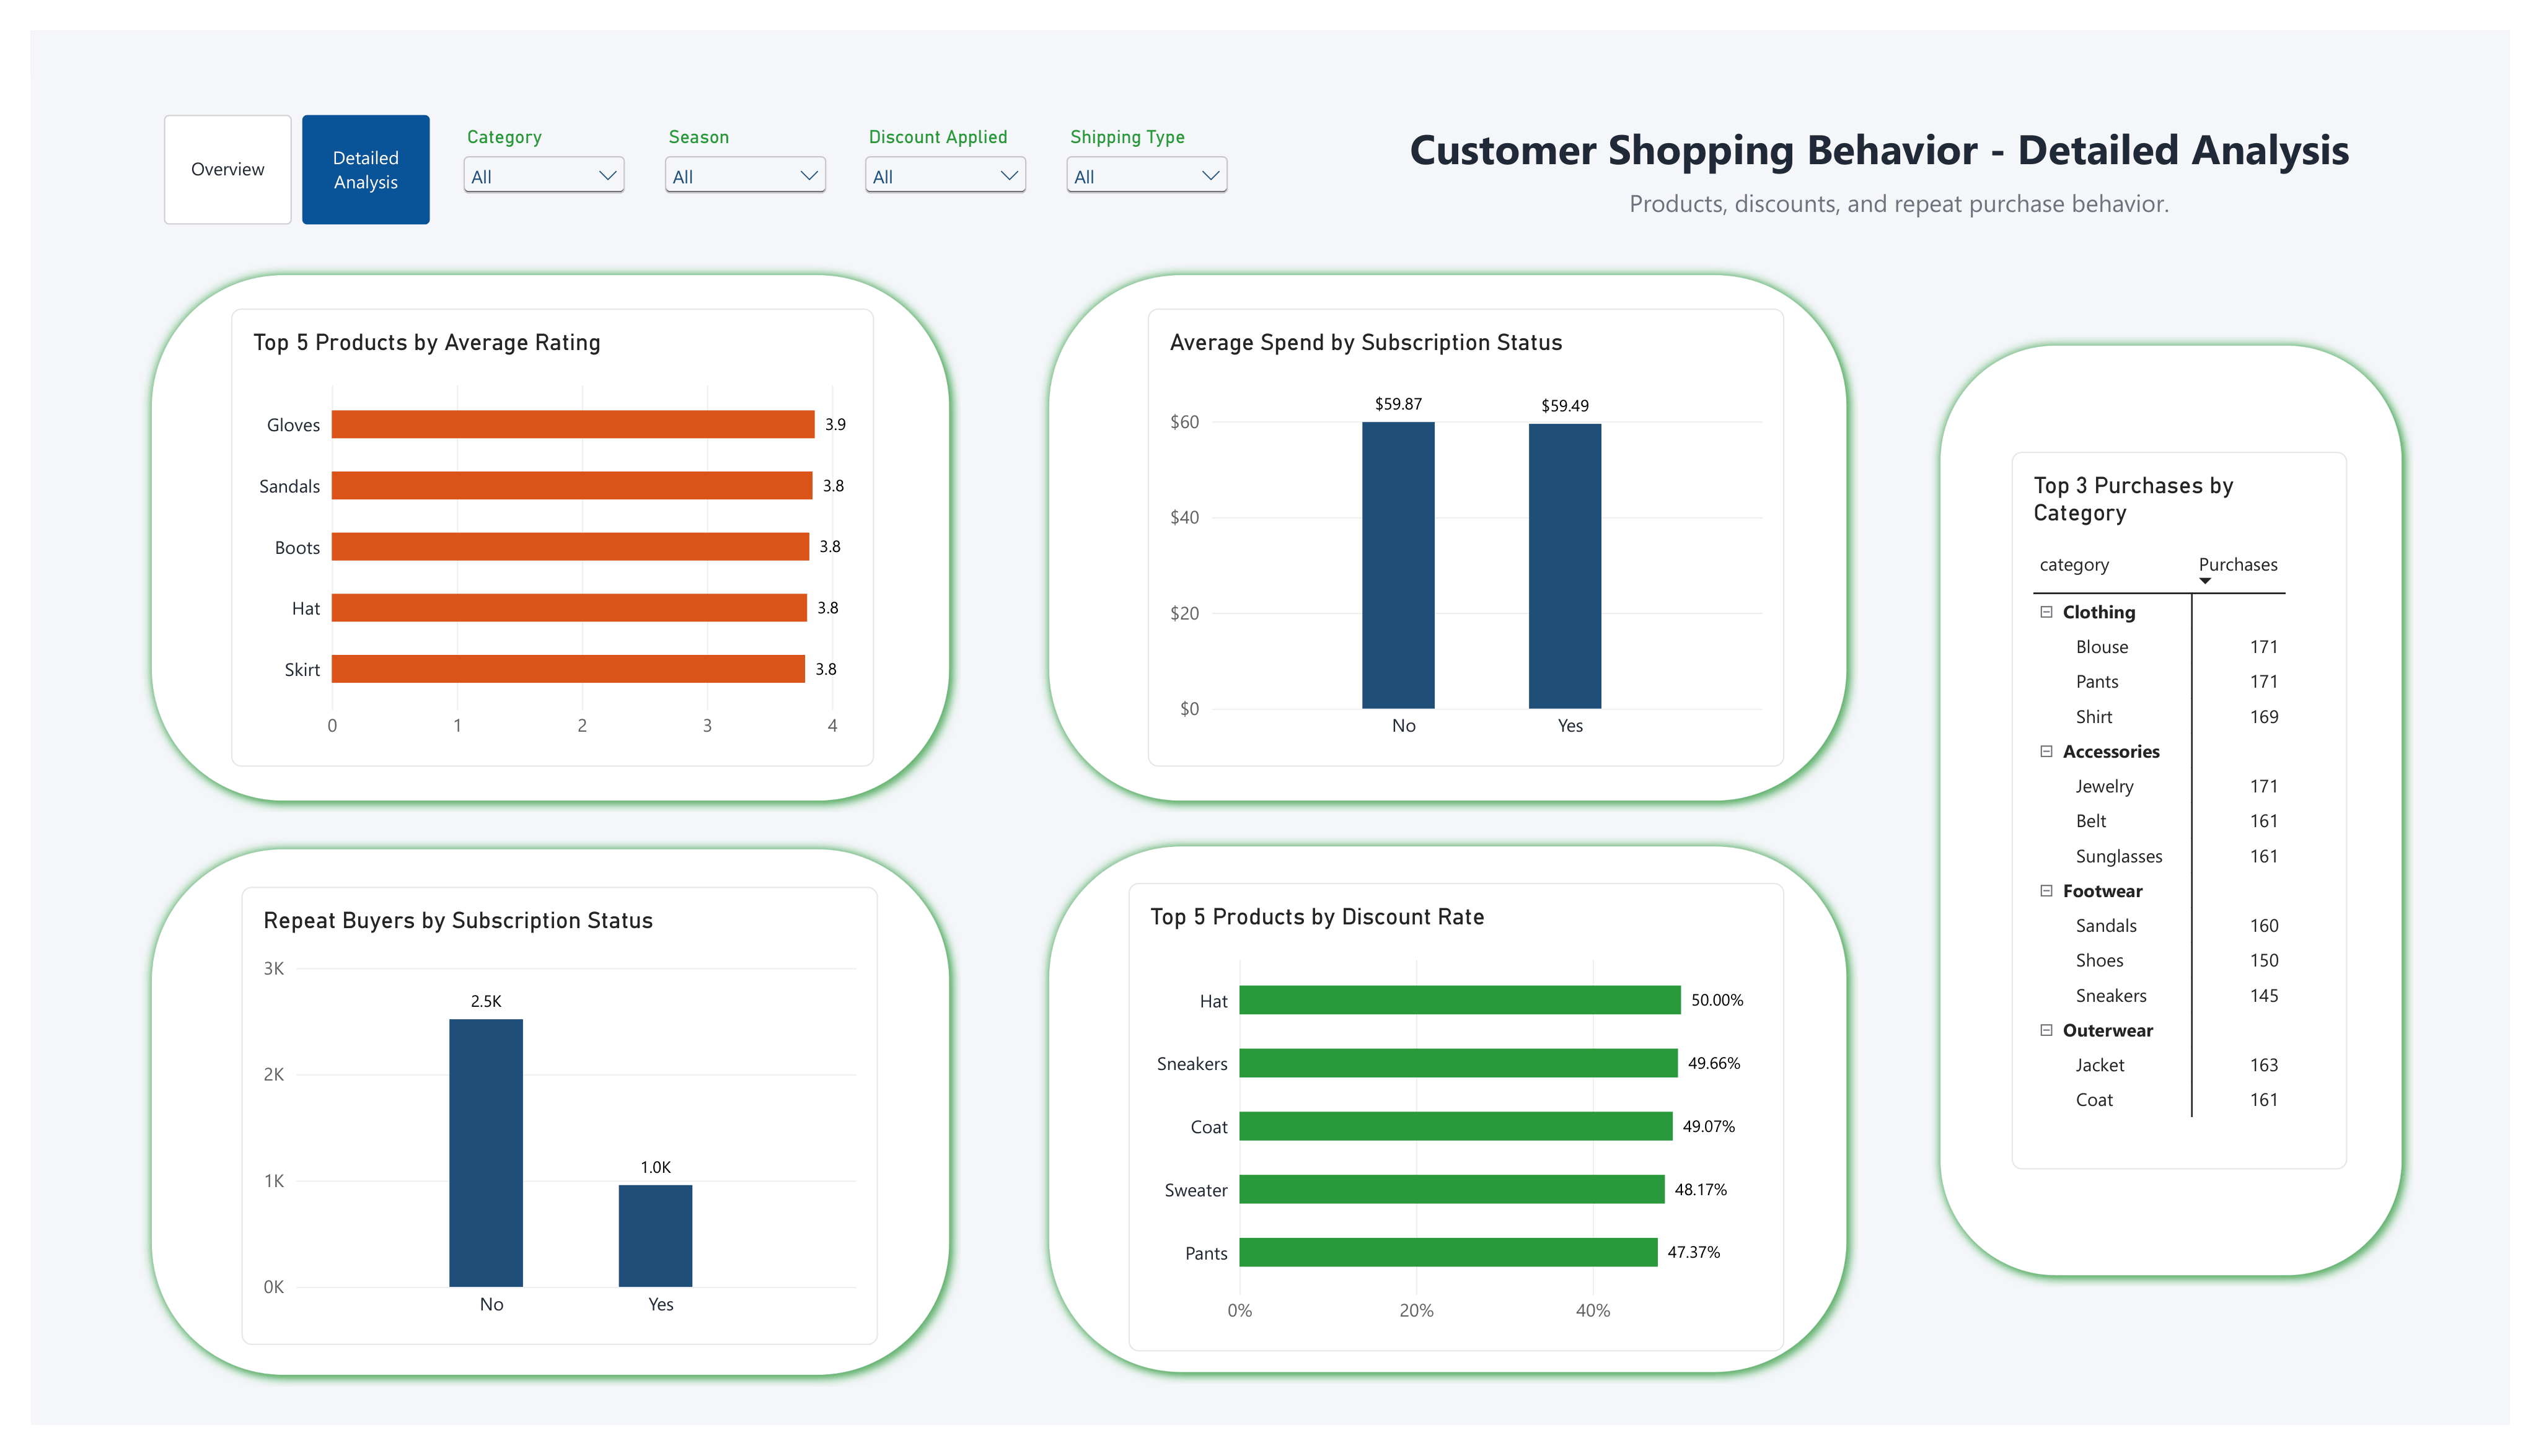

The dashboard page shown, as its layout file describes it:
{"tool":"powerbi","page":{"name":"Detailed Analysis","canvas":[1920,1080],"ordinal":1},"visuals":[{"type":"pageNavigator","box":[102.5,65,207.5,85],"z":0},{"type":"slicer","title":"Category","fields":{"Values":["customer_shopping_behavior_clean.category"]},"box":[330.4,73.5,135,70],"z":1000},{"type":"slicer","title":"Season","fields":{"Values":["customer_shopping_behavior_clean.season"]},"box":[485.8,73.5,135,65],"z":2000},{"type":"textbox","box":[1067.5,67.5,765,45],"z":3000},{"type":"textbox","box":[1237.5,120,425,32.5],"z":4000},{"type":"slicer","title":"Season","fields":{"Values":["CustomerData.discount_applied"]},"box":[641.1,73.5,135,60],"z":5000},{"type":"slicer","title":"Season","fields":{"Values":["CustomerData.shipping_type"]},"box":[796.5,73.5,135,65],"z":6000},{"type":"shape","box":[85,180,635,425],"z":7000},{"type":"shape","box":[1470,235,375,737.5],"z":8000},{"type":"clusteredBarChart","title":"Top 5 Products by Average Rating","fields":{"Category":["CustomerData.item_purchased"],"Y":["CustomerData.Average Rating"]},"box":[155,215,497.5,355],"z":9000},{"type":"pivotTable","title":"Top 3 Purchases by Category","fields":{"Rows":["CustomerData.category","CustomerData.item_purchased"],"Values":["CustomerData.Top 3 Purchases by Category"]},"box":[1534,326,260,556],"z":10000},{"type":"shape","box":[85,625,635,425],"z":11000},{"type":"shape","box":[780,180,635,425],"z":12000},{"type":"shape","box":[780,622.5,635,425],"z":13000},{"type":"clusteredColumnChart","title":"Repeat Buyers by Subscription Status","fields":{"Category":["CustomerData.subscription_status"],"Y":["CustomerData.Total Purchases"]},"box":[163.3,663.3,492.5,355],"z":14000},{"type":"clusteredBarChart","title":"Top 5 Products by Discount Rate","fields":{"Category":["CustomerData.item_purchased"],"Y":["CustomerData.Discount Rate"]},"box":[850,660,507.5,362.5],"z":15000},{"type":"clusteredColumnChart","title":"Average Spend by Subscription Status","fields":{"Category":["CustomerData.subscription_status"],"Y":["CustomerData.Average Spend"]},"box":[865,215,492.5,355],"z":16000}]}

Visuals, with their boxes on the page's 1920x1080 design canvas (x1, y1, x2, y2). These are canvas units, not pixel positions in the 2541x1456 screenshot, which may show the page scaled, cropped or inside an application window:
pageNavigator: [102,65,310,150]
"Category" slicer: [330,74,465,144]
"Season" slicer: [486,74,621,138]
textbox: [1068,68,1832,112]
textbox: [1238,120,1662,152]
"Season" slicer: [641,74,776,134]
"Season" slicer: [796,74,932,138]
shape: [85,180,720,605]
shape: [1470,235,1845,972]
"Top 5 Products by Average Rating" clusteredBarChart: [155,215,652,570]
"Top 3 Purchases by Category" pivotTable: [1534,326,1794,882]
shape: [85,625,720,1050]
shape: [780,180,1415,605]
shape: [780,622,1415,1048]
"Repeat Buyers by Subscription Status" clusteredColumnChart: [163,663,656,1018]
"Top 5 Products by Discount Rate" clusteredBarChart: [850,660,1358,1022]
"Average Spend by Subscription Status" clusteredColumnChart: [865,215,1358,570]
